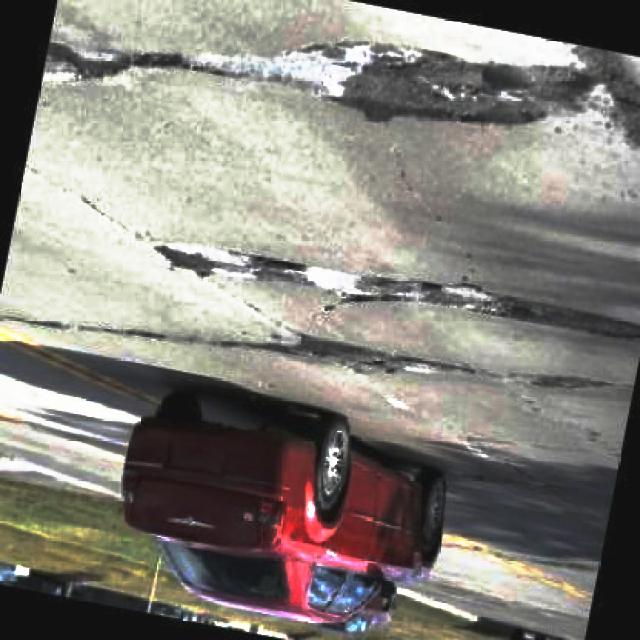pothole: (295, 26, 583, 136), (363, 268, 640, 352), (157, 231, 352, 298), (560, 46, 640, 165), (43, 36, 202, 90), (292, 331, 457, 383), (517, 369, 606, 394)
